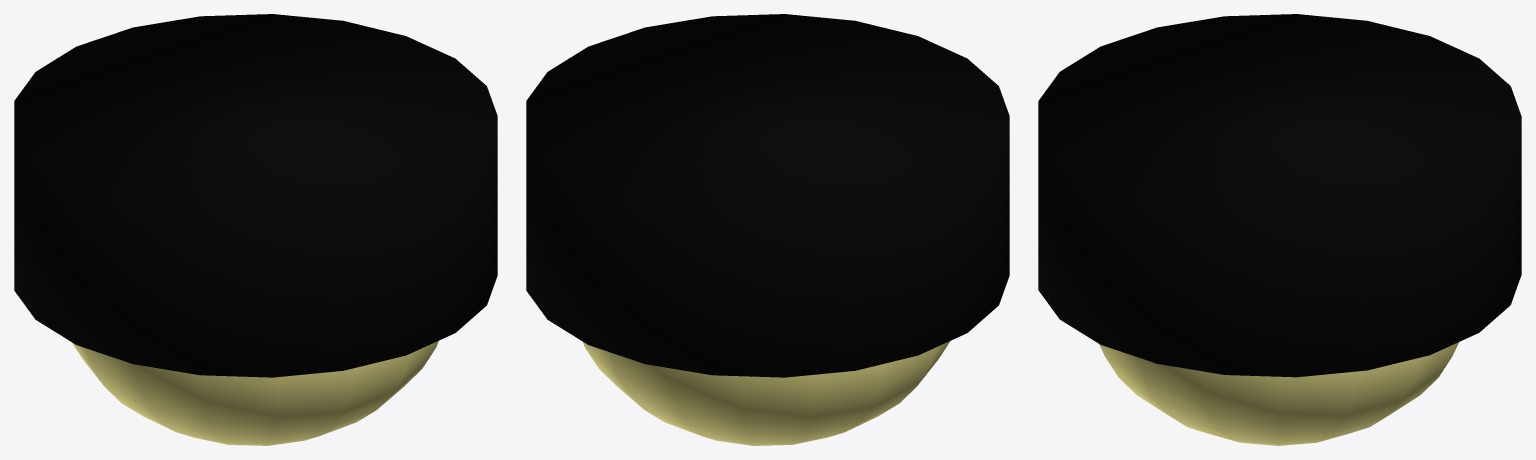
The model's file is furnitures.fbx_light.fbx.
The picture shows the model from 3 angles, left to right: view 1: azimuth 30°, elevation 25°; view 2: azimuth 150°, elevation 25°; view 3: azimuth 270°, elevation 25°; orthographic projection.
Visible parts, largest first — view 1: 실린더, 구체.001; view 2: 실린더, 구체.001; view 3: 실린더, 구체.001.
Part boxes in pixels (x1,y1,x2,y2): 실린더: (14,14,497,377); 구체.001: (72,340,438,445); 실린더: (526,14,1009,377); 구체.001: (583,341,950,445); 실린더: (1038,14,1521,377); 구체.001: (1099,342,1458,445).
Size of the model in its own units: 64.2 by 44.84 by 64.02.
